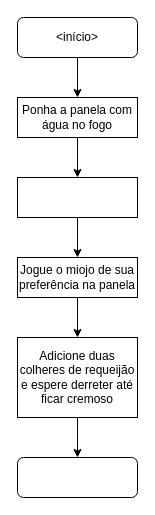
This 155x515 diagram has some shape labels left out. Here are the shapes that lost their labels. From the top down, the centre of each, then its label:
(x=77, y=197): Espere a água ferver
(x=77, y=477): <cabou>
